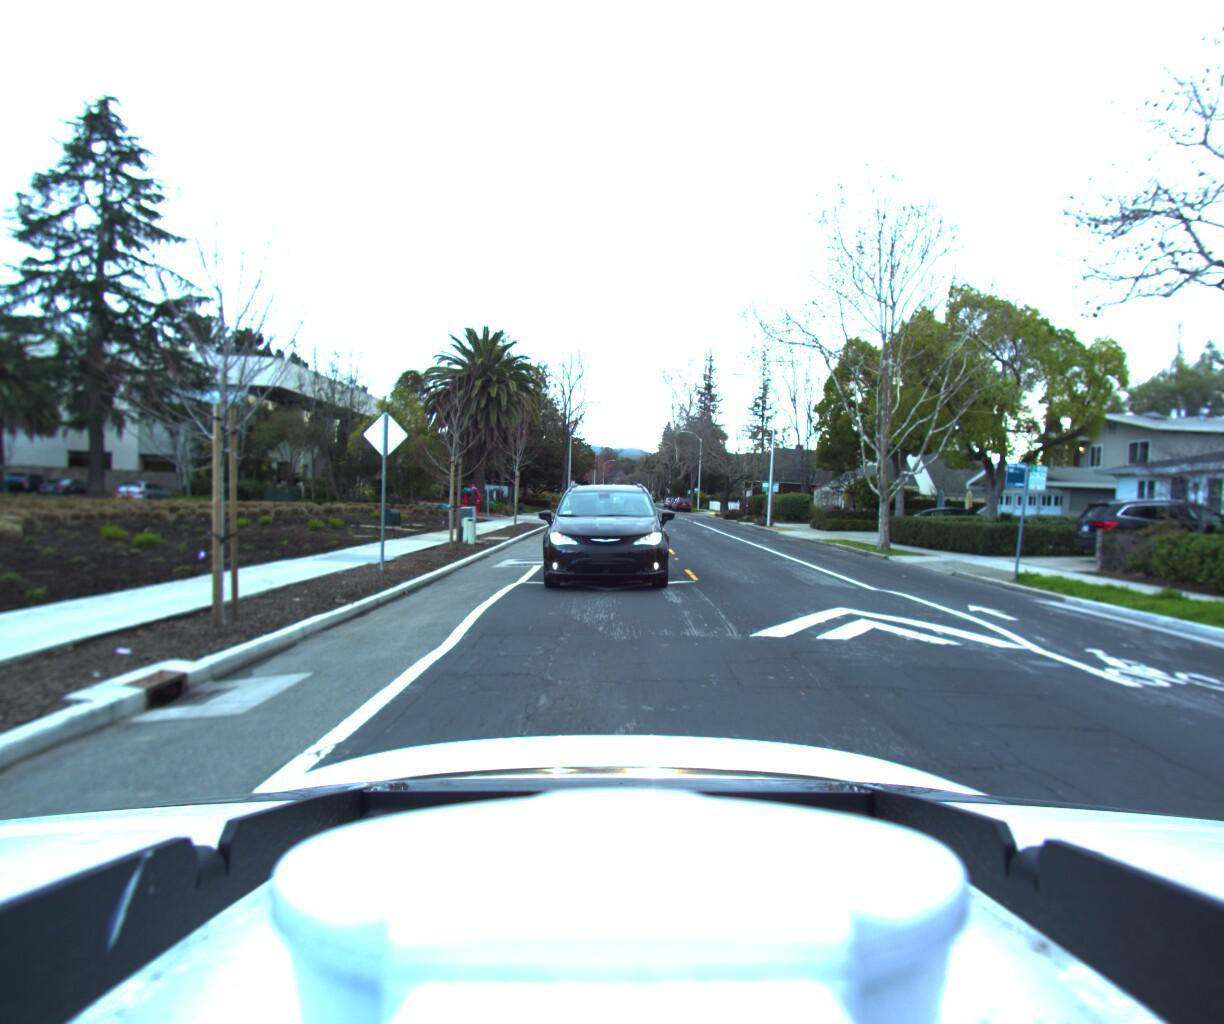car: (537, 476, 673, 604), (1065, 490, 1224, 562)
